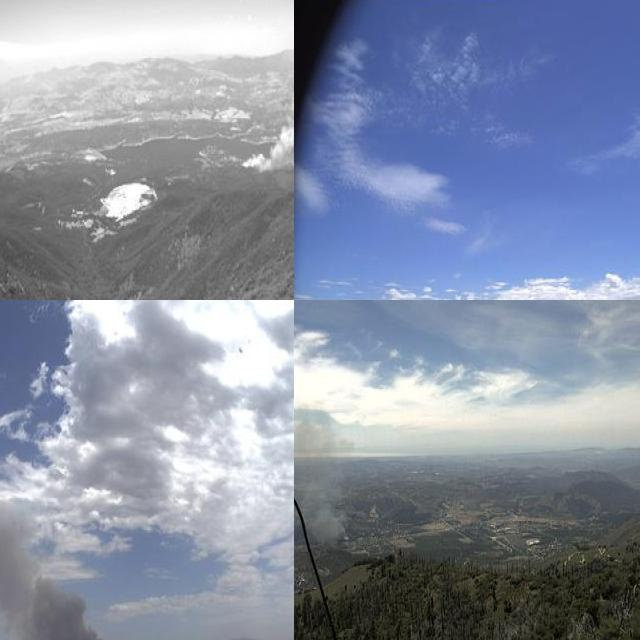smoke: (0, 483, 139, 640), (294, 402, 346, 566), (233, 47, 294, 175)
